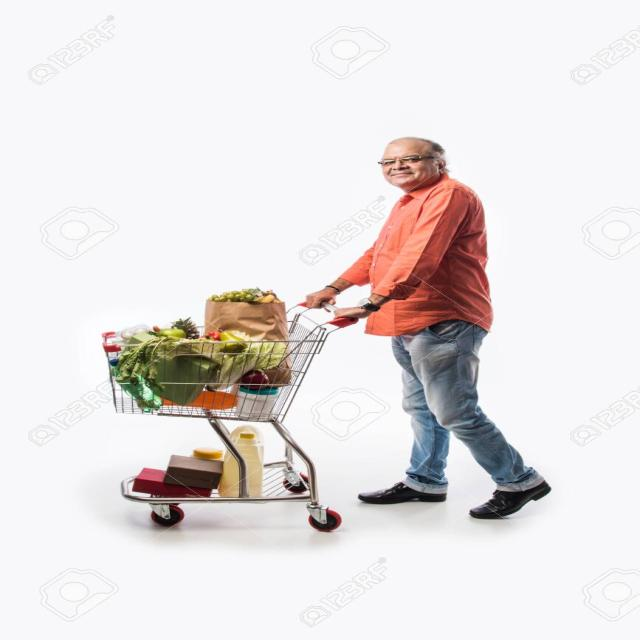Person: (308, 137, 550, 520)
